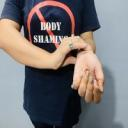hand: (71, 52, 105, 104), (51, 36, 89, 69)
